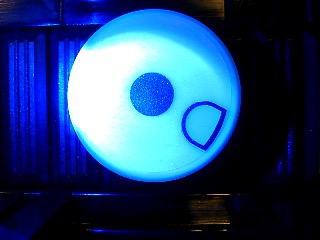BOHOMIPO1: (67, 7, 242, 183)
